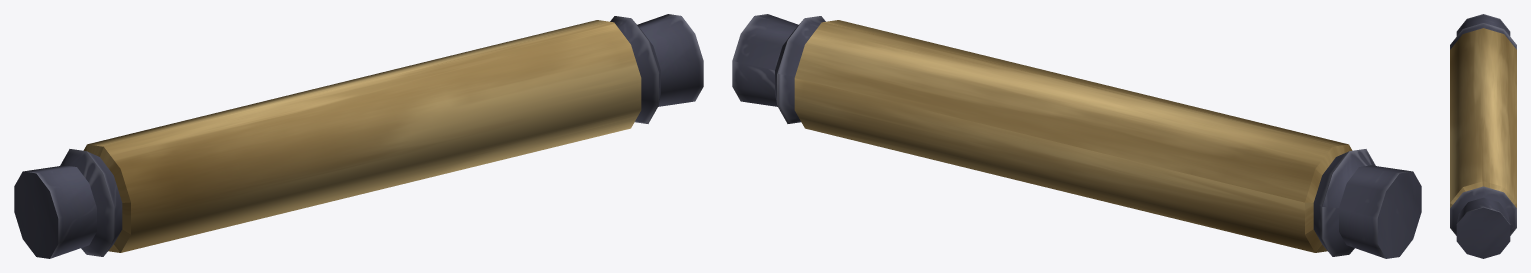
The model's file is Libra_std_ScrollClosed.fbx.
3 renders of one model, left to right at view 1: azimuth 30°, elevation 25°; view 2: azimuth 150°, elevation 25°; view 3: azimuth 270°, elevation 25°, orthographic. The views are drawn at different scales.
Parts seen in each view (by area): view 1: Libra_std_ScrollClosed; view 2: Libra_std_ScrollClosed; view 3: Libra_std_ScrollClosed.
Part boxes in pixels (left/top/right/bottom): Libra_std_ScrollClosed: left=14, top=14, right=703, bottom=258; Libra_std_ScrollClosed: left=732, top=14, right=1421, bottom=258; Libra_std_ScrollClosed: left=1450, top=14, right=1516, bottom=258.
Size of the model in its own units: 0.1364 by 0.021 by 0.0199.
